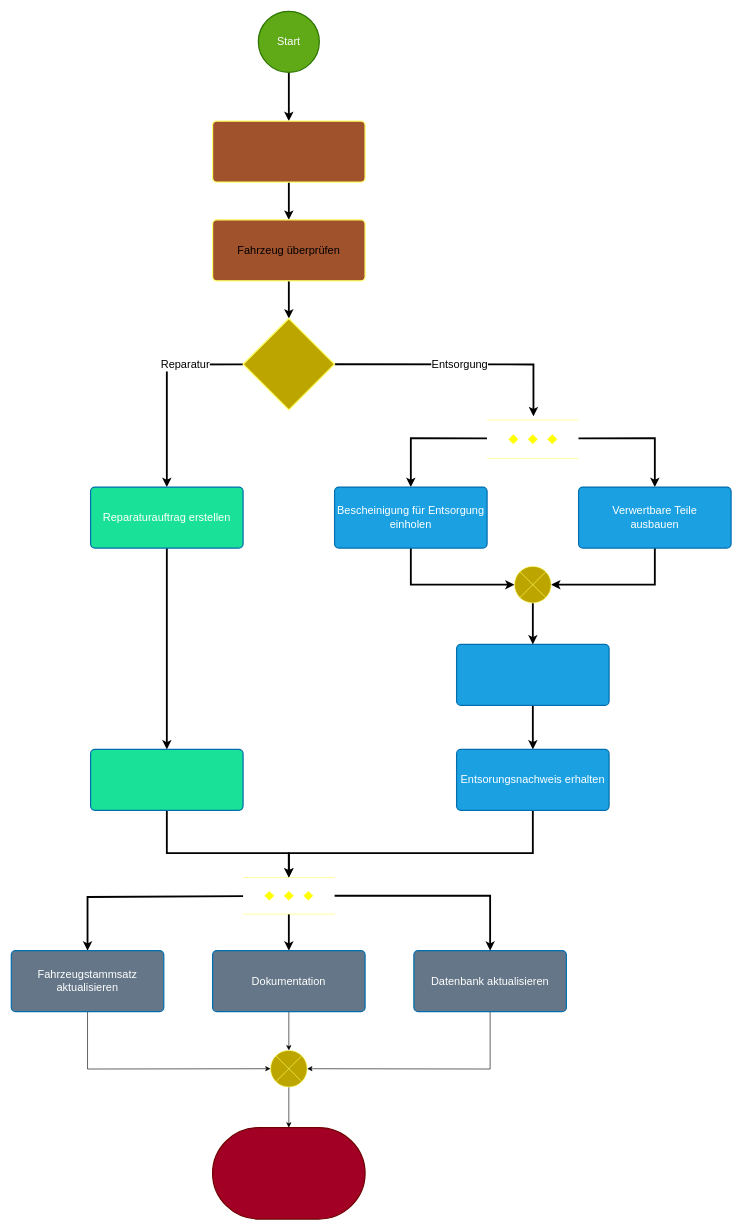
Some shapes in this 742 by 1230 pixel diagram are drawn without their labels. Here are the shapes that lost their labels. From the top down, the box of each, then its label:
(212, 120, 365, 182): Fahrzeug annehmen
(242, 318, 335, 410): Reparieren oder Entsorgen
(456, 643, 609, 706): Verschrottung beautragen
(90, 748, 243, 811): Reparatur durchführen
(212, 1127, 365, 1219): Ende
